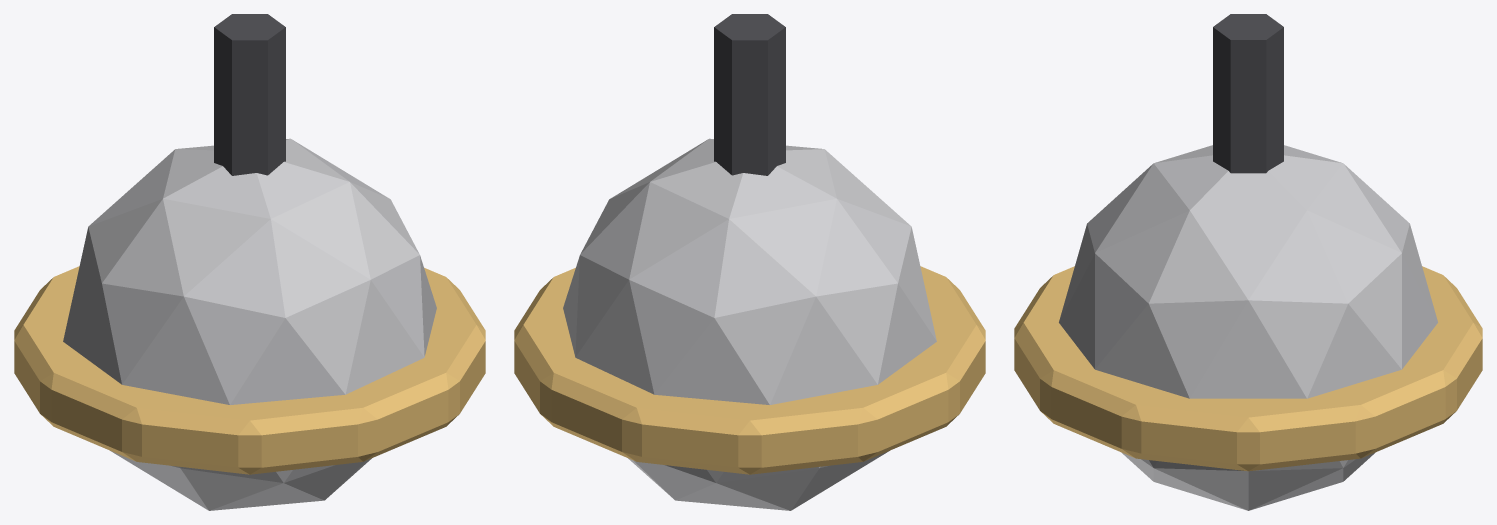
The model's file is CO_Top_Dome.fbx.
3 renders of one model, left to right at view 1: azimuth 30°, elevation 25°; view 2: azimuth 150°, elevation 25°; view 3: azimuth 270°, elevation 25°, orthographic.
Visible parts, largest first — view 1: CO_Top_Dome; view 2: CO_Top_Dome; view 3: CO_Top_Dome.
Part boxes in pixels (x1=…): CO_Top_Dome: x1=14, y1=14, x2=485, y2=510; CO_Top_Dome: x1=514, y1=14, x2=985, y2=510; CO_Top_Dome: x1=1014, y1=14, x2=1482, y2=510.
Size of the model in its own units: 0.7896 by 0.87 by 0.7896.
